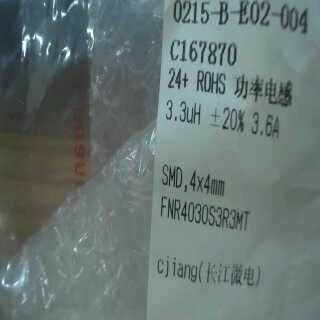3.3uH: (160, 93, 208, 136)
